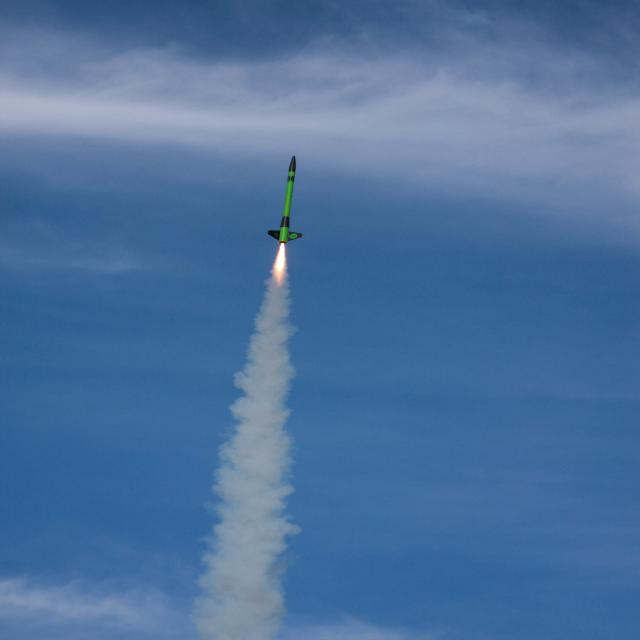Rocket: (266, 154, 304, 244)
